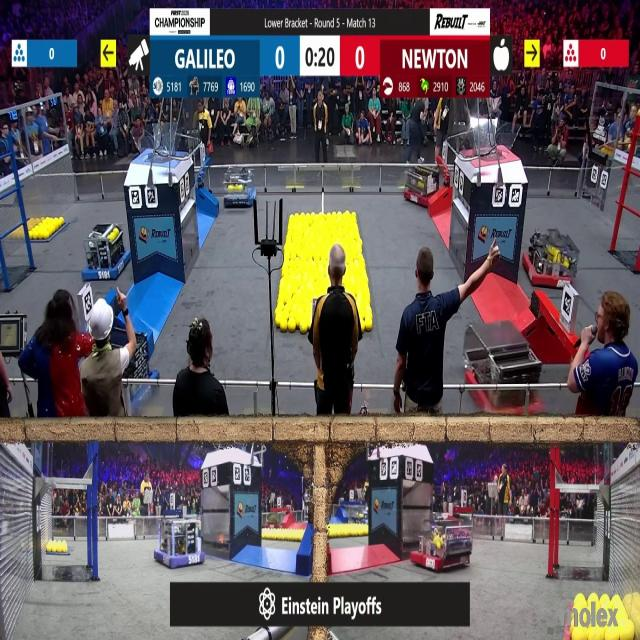ball_ground: (287, 320, 295, 333), (364, 318, 371, 331), (302, 322, 309, 334), (276, 316, 282, 326)
goal: (466, 122, 522, 160), (130, 129, 188, 160)
robot_blue: (83, 222, 129, 281), (155, 516, 204, 568), (224, 166, 258, 207), (339, 481, 369, 509)
robot_red: (466, 333, 543, 414), (548, 516, 602, 580), (418, 514, 474, 572), (525, 230, 578, 288), (404, 163, 441, 206)
